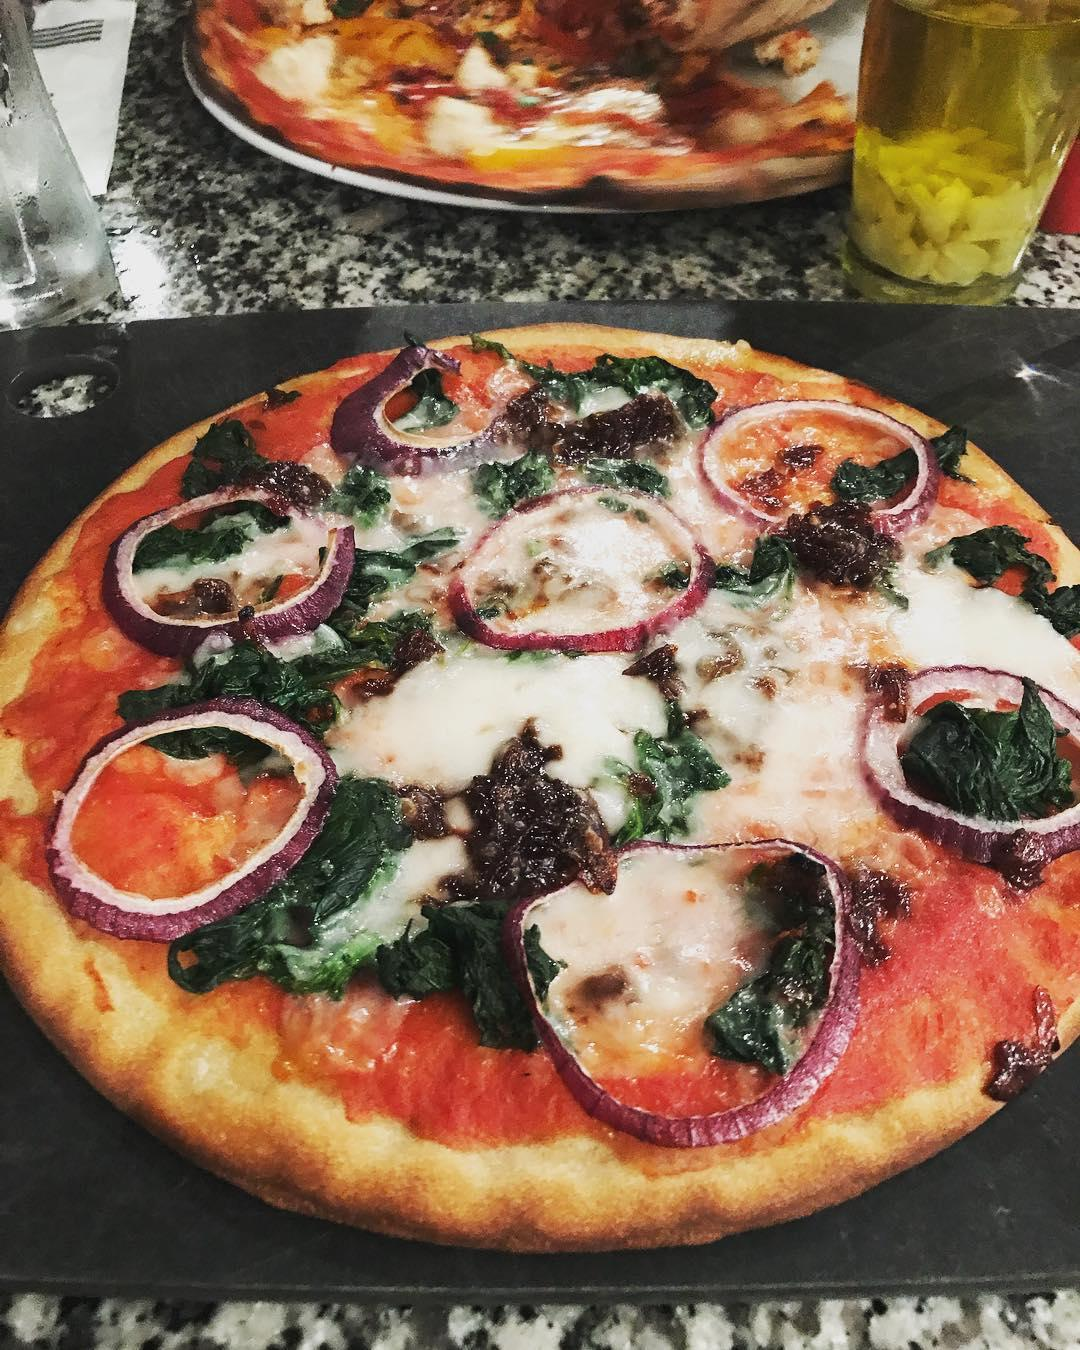Arugula: (337, 771, 565, 1015), (748, 451, 949, 587), (699, 851, 824, 1066), (327, 530, 464, 684), (911, 702, 1074, 811), (168, 645, 395, 720), (528, 358, 710, 449), (601, 724, 714, 829)
Onion: (521, 831, 854, 1155), (41, 698, 327, 931), (445, 493, 727, 671), (857, 648, 1080, 862), (96, 488, 375, 651), (703, 388, 958, 564), (327, 337, 559, 475)
Pizza: (14, 324, 1080, 1253), (165, 6, 948, 196)
